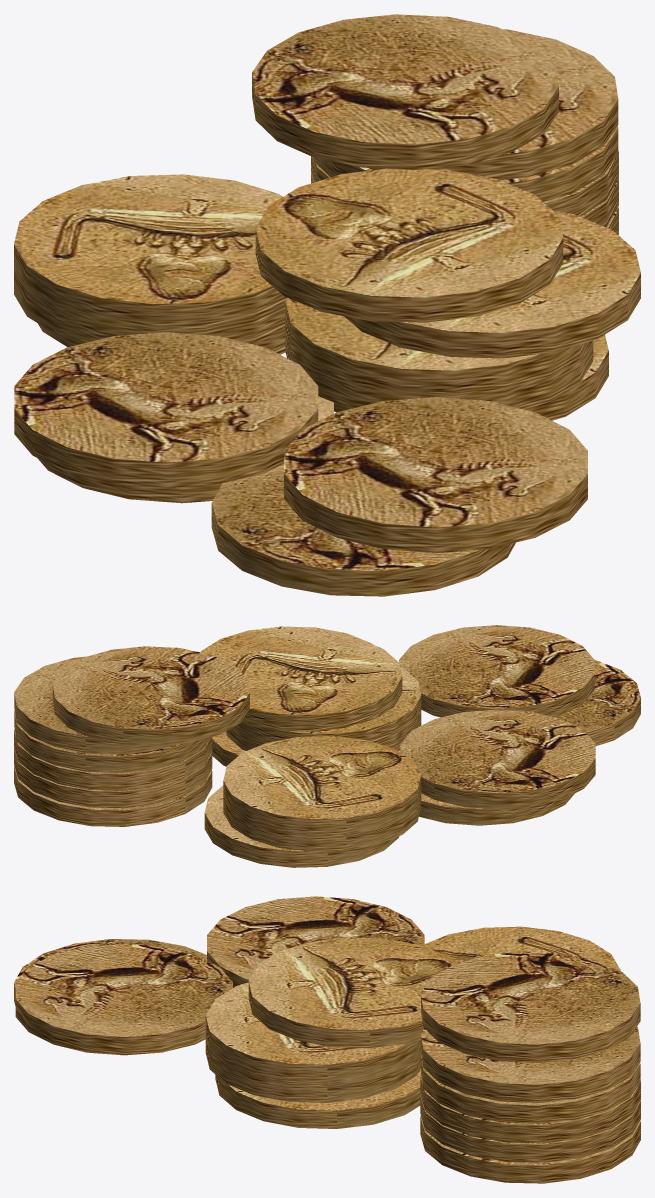
The model's file is Coins.FBX.
The picture shows the model from 3 angles, top to bottom: view 1: azimuth 30°, elevation 25°; view 2: azimuth 150°, elevation 25°; view 3: azimuth 270°, elevation 25°; orthographic projection. The views are drawn at different scales.
Visible parts, largest first — view 1: coins; view 2: coins; view 3: coins.
Part boxes in pixels (left/top/right/bottom): coins: left=14, top=14, right=640, bottom=596; coins: left=14, top=625, right=640, bottom=867; coins: left=14, top=896, right=640, bottom=1183.
Bounding box in the file's own units: 48.89 × 10.81 × 51.82.
Materials: 1 (1 with a texture image).
